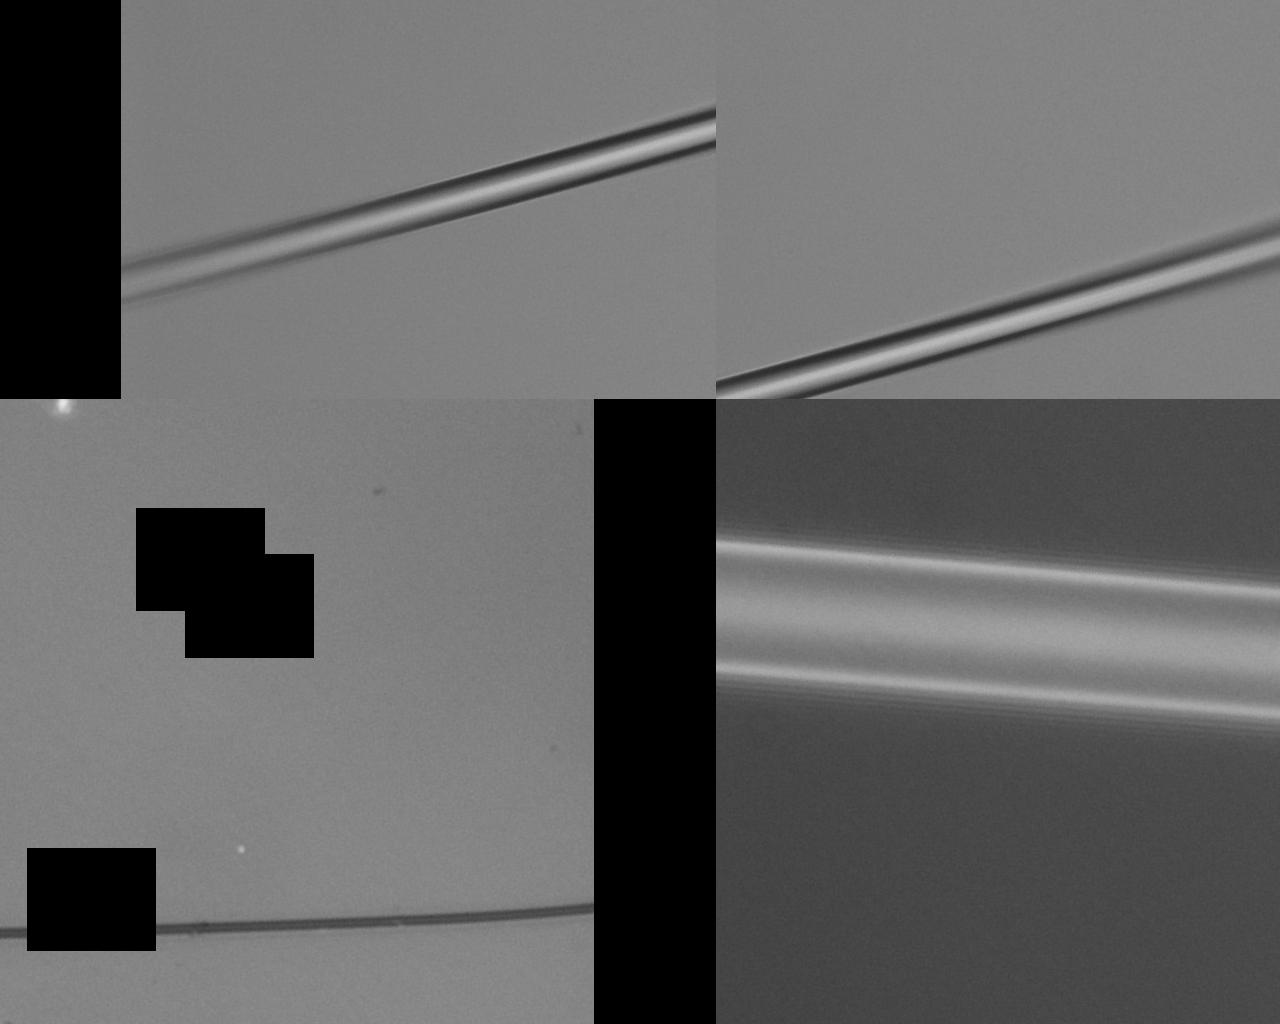fiber: (128, 532, 1152, 631)
